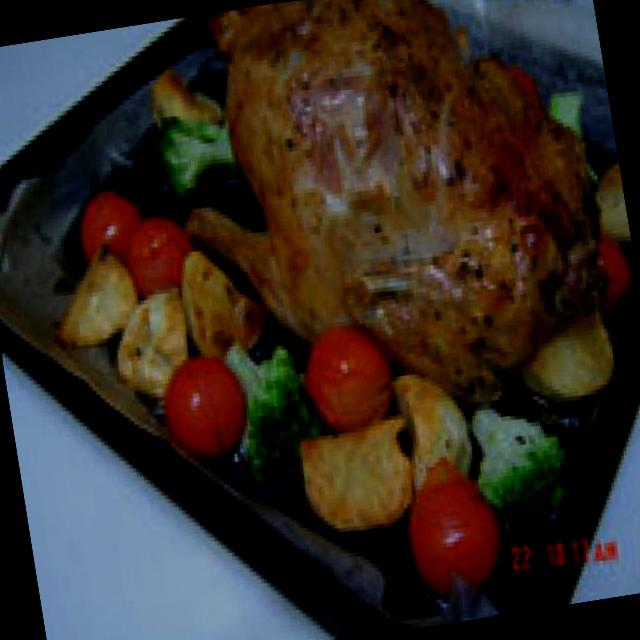Chicken: (137, 0, 640, 462)
